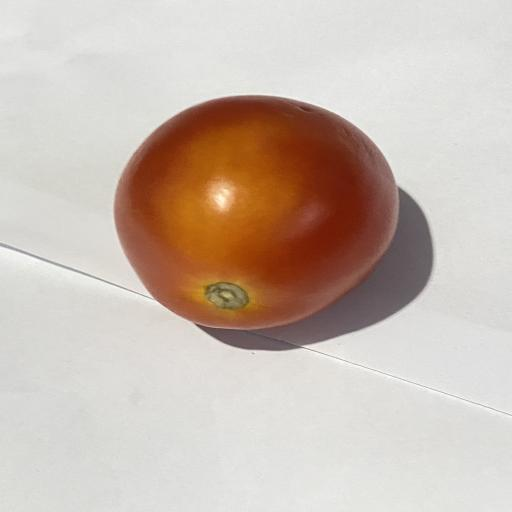ripe: (115, 96, 399, 329)
